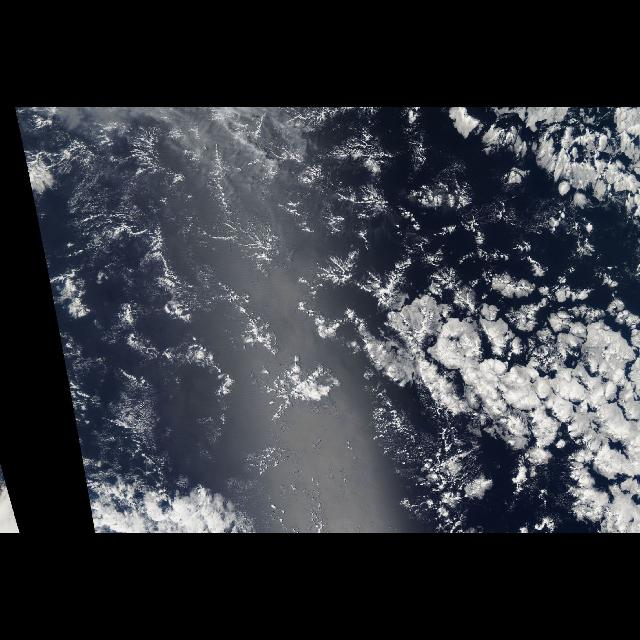Fish: (118, 296, 364, 439)
Flower: (327, 197, 639, 529)
